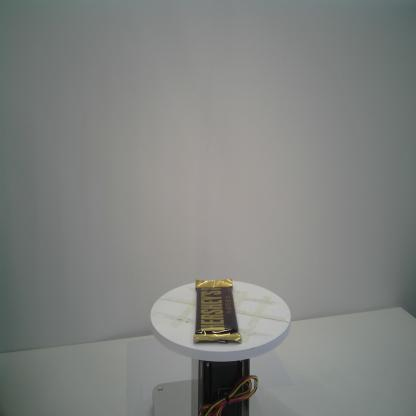Chocolate: (192, 278, 244, 347)
